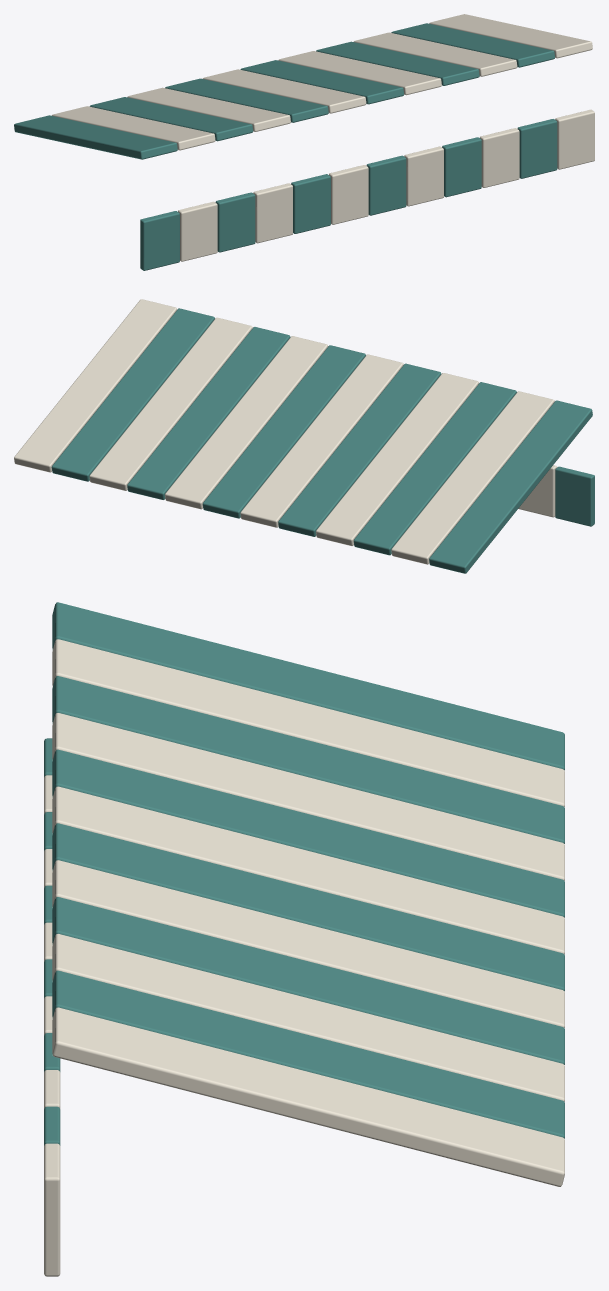
Rendered from wp-auvent-de-terrasse.glb.
The picture shows the model from 3 angles, top to bottom: view 1: azimuth 30°, elevation 25°; view 2: azimuth 150°, elevation 25°; view 3: azimuth 270°, elevation 25°; orthographic projection. The views are drawn at different scales.
Visible parts, largest first — view 1: wp-auvent-de-terrasse; view 2: wp-auvent-de-terrasse; view 3: wp-auvent-de-terrasse.
Boxes of the visible parts, x1,y1,x2,y2 form: wp-auvent-de-terrasse: [14, 14, 594, 270]; wp-auvent-de-terrasse: [14, 299, 594, 573]; wp-auvent-de-terrasse: [44, 602, 564, 1276].
Bounding box in the file's own units: 2.4 × 0.5981 × 1.2.
